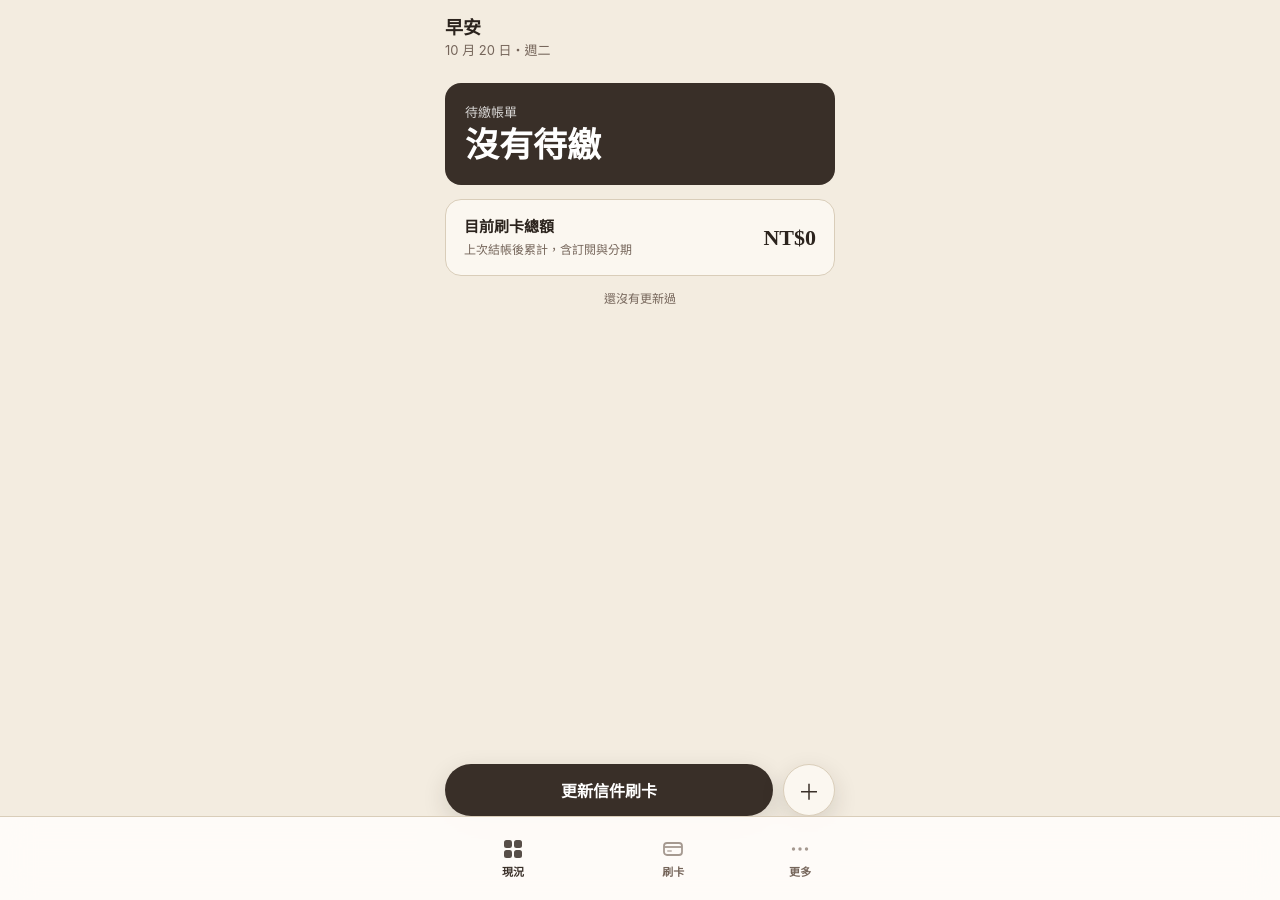
Test: 現況：待辦與更新 › 還沒設信件匯入時按「更新信件刷卡」，提示去設定，並顯示還沒更新過
The width and height of the screenshot is (1280, 900).
Expected: the text "還沒有更新過" is shown, [604,291,676,306]
Click the button "更新信件刷卡".
click(609, 790)  # box [445,764,773,816]
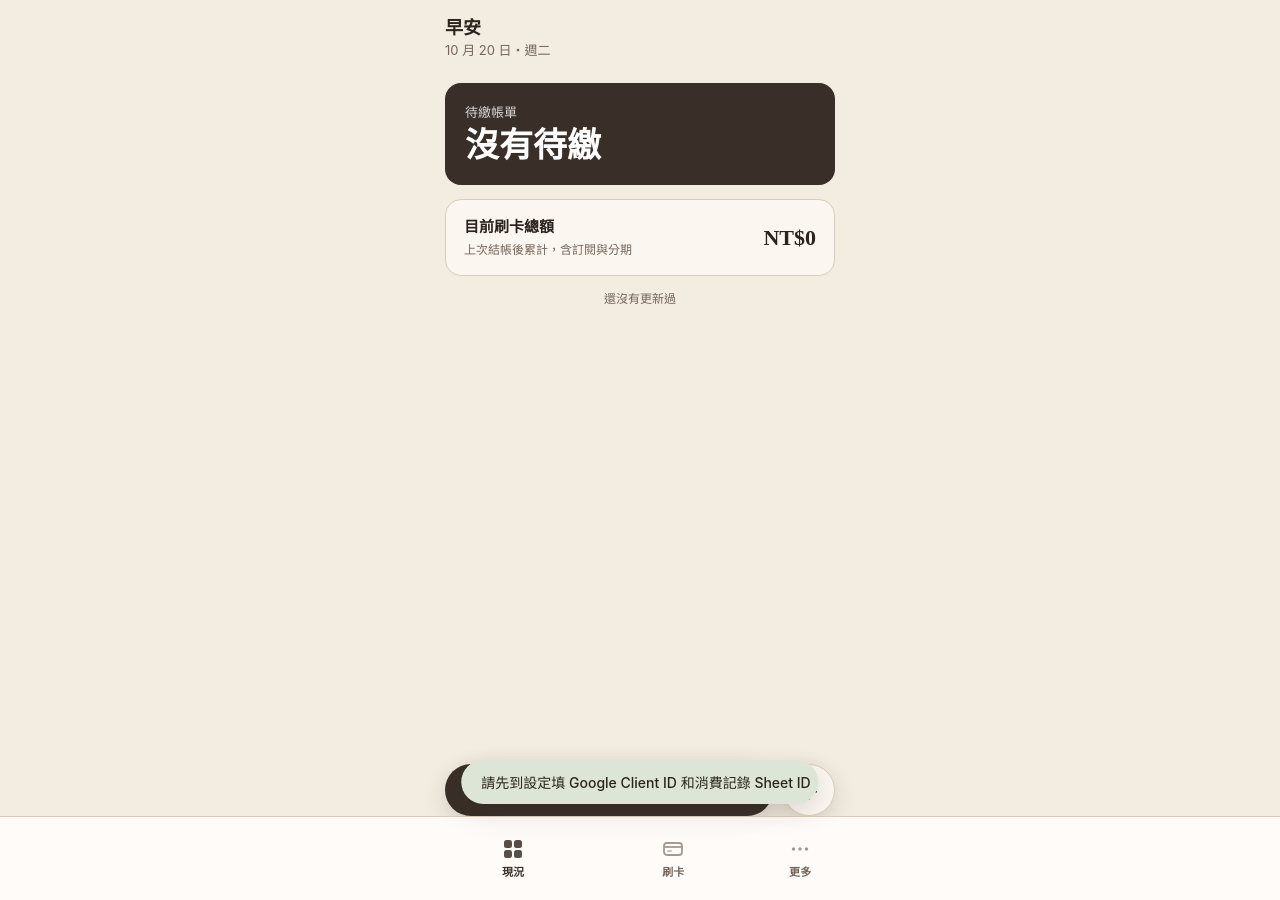
Expected: the text "請先到設定填 Google Client ID 和消費記錄 Sheet ID" is shown, [481,772,811,792]
